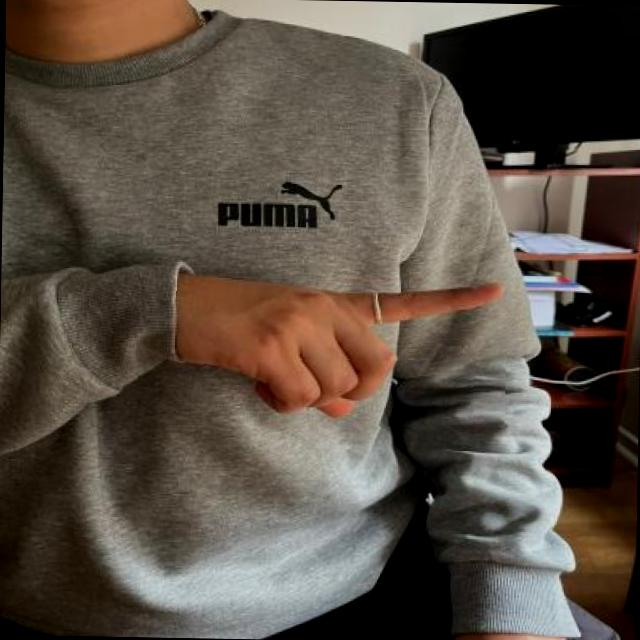S: (136, 256, 509, 430)
